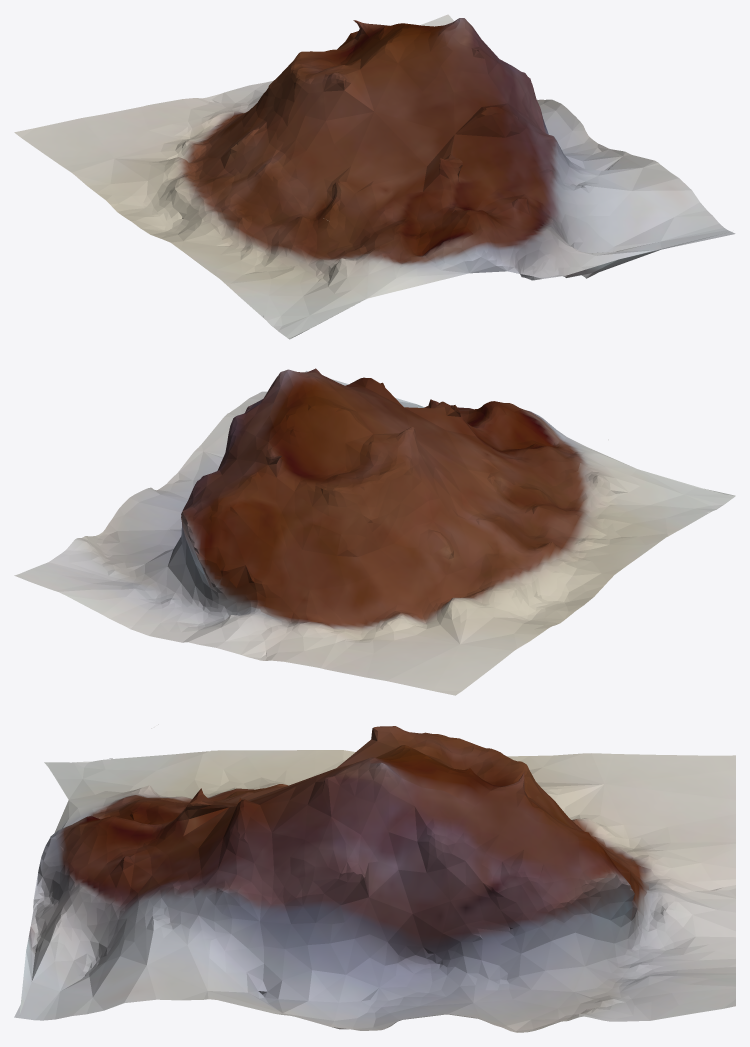
The model's file is MACO_1_better.obj.
The picture shows the model from 3 angles, top to bottom: view 1: azimuth 30°, elevation 25°; view 2: azimuth 150°, elevation 25°; view 3: azimuth 270°, elevation 25°; orthographic projection. The views are drawn at different scales.
Parts seen in each view (by area): view 1: mesh; view 2: mesh; view 3: mesh.
Part boxes in pixels (left/top/right/bottom): mesh: left=14, top=14, right=735, bottom=339; mesh: left=14, top=368, right=735, bottom=695; mesh: left=14, top=724, right=735, bottom=1032.
Size of the model in its own units: 0.1737 by 0.0626 by 0.1993.
Materials: 1 (1 with a texture image).
